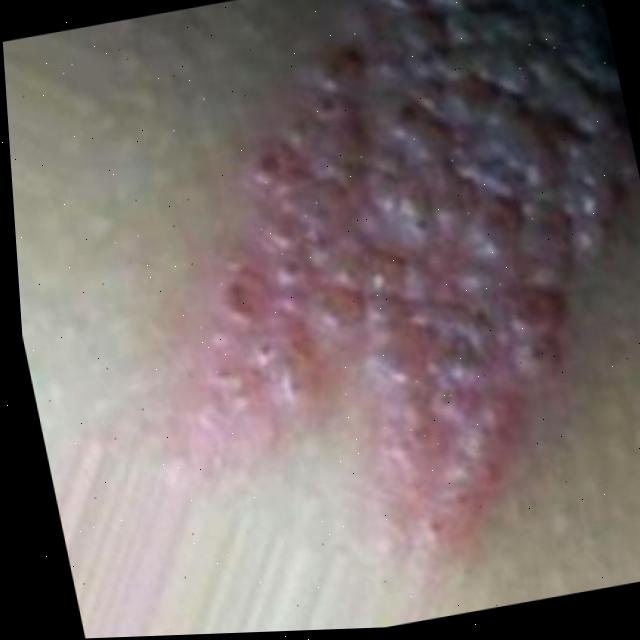Shingles: (116, 0, 640, 586)
